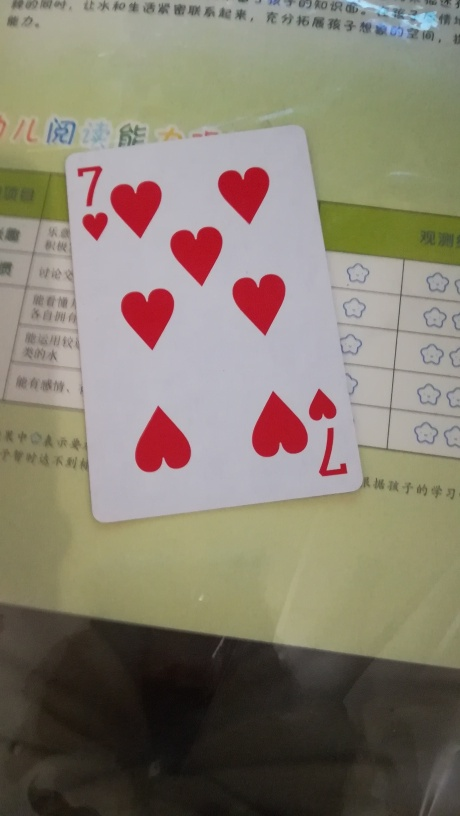hx 7: (61, 126, 360, 521)
